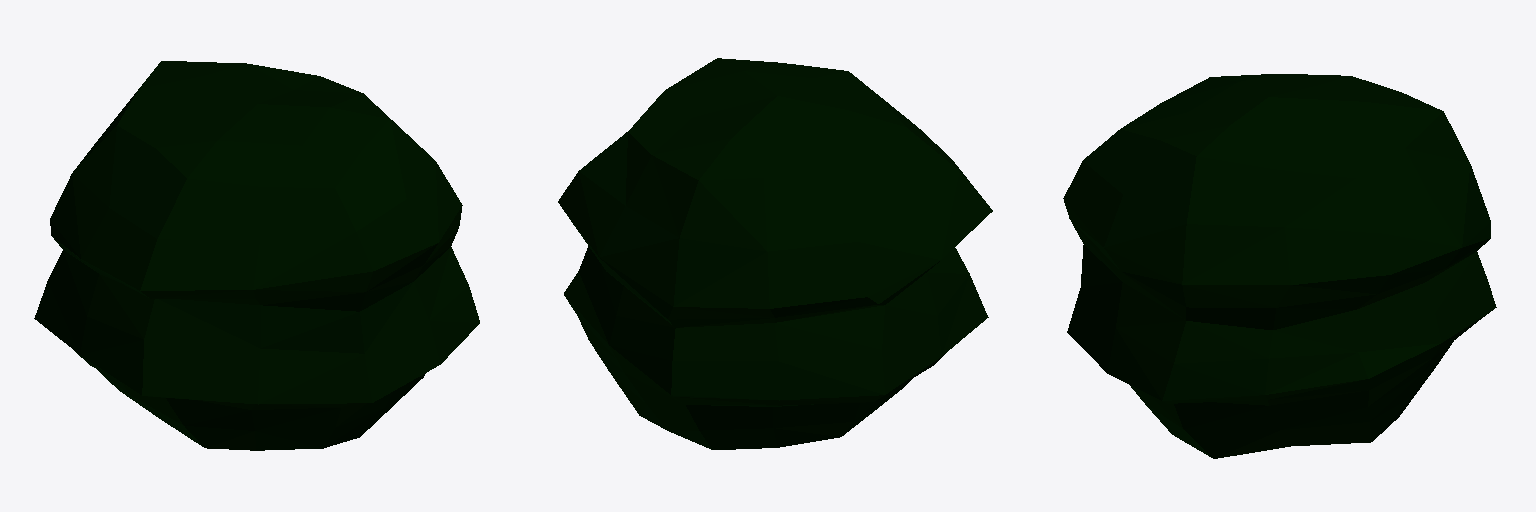
Rendered from bush_1.obj.
3 renders of one model, left to right at view 1: azimuth 30°, elevation 25°; view 2: azimuth 150°, elevation 25°; view 3: azimuth 270°, elevation 25°, orthographic.
Visible parts, largest first — view 1: bush_1; view 2: bush_1; view 3: bush_1.
Part boxes in pixels (x1,y1,x2,y2): bush_1: (34,61,479,450); bush_1: (558,58,992,449); bush_1: (1063,74,1496,458).
Bounding box in the file's own units: 0.9713 × 0.8337 × 1.04.